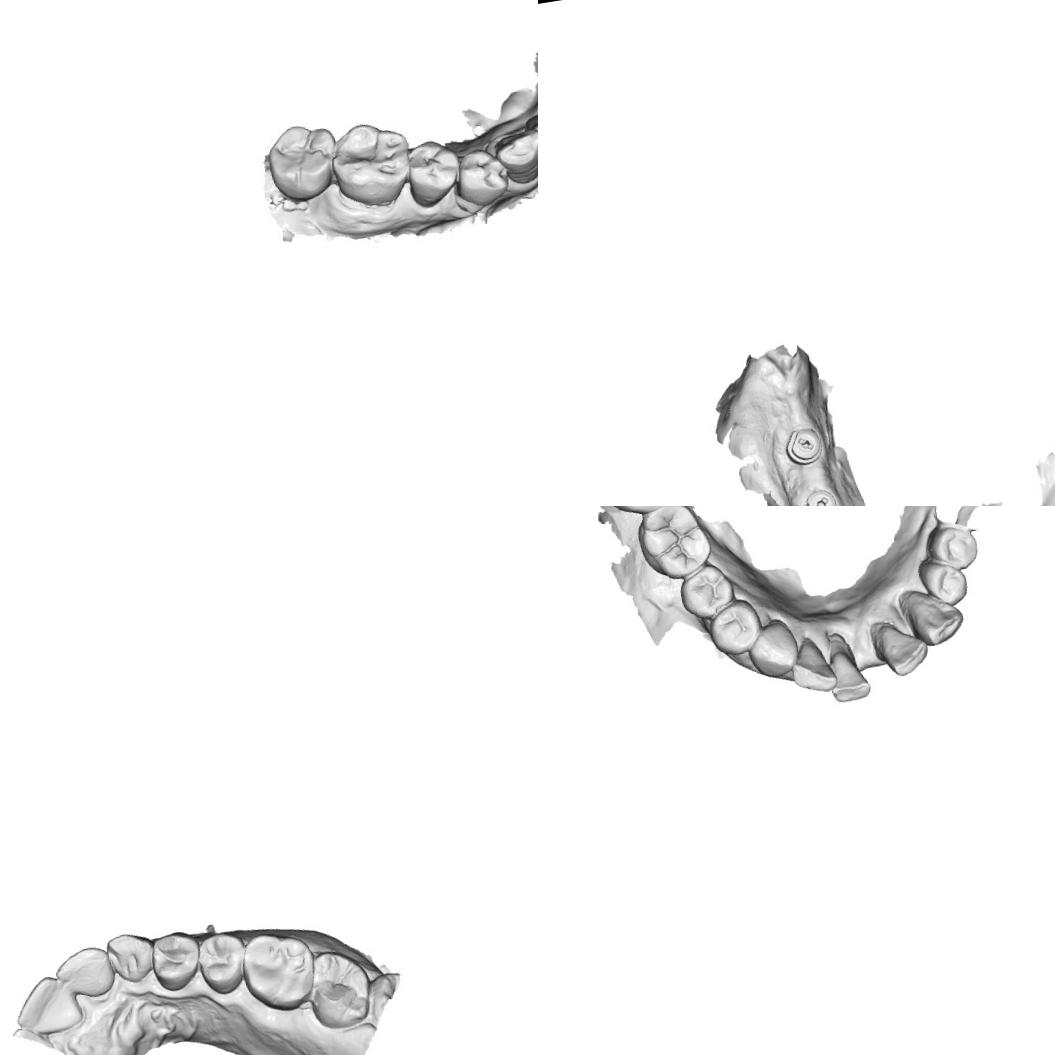canine: (744, 618, 802, 682), (915, 554, 972, 612), (104, 928, 158, 985), (493, 125, 538, 186)
implant_minus: (781, 424, 826, 468), (802, 486, 840, 506)
incisor: (7, 969, 88, 1043), (896, 581, 968, 651), (867, 614, 933, 680), (50, 942, 118, 1005), (820, 627, 874, 706), (786, 633, 840, 698), (522, 99, 538, 154)
molar: (325, 115, 416, 212), (236, 925, 322, 1017), (260, 118, 344, 206), (630, 506, 717, 586), (303, 945, 377, 1033)
premolar: (400, 136, 464, 212), (192, 926, 253, 1000), (674, 559, 738, 625), (704, 596, 768, 660), (146, 926, 205, 994), (449, 144, 511, 208), (922, 521, 982, 576)
